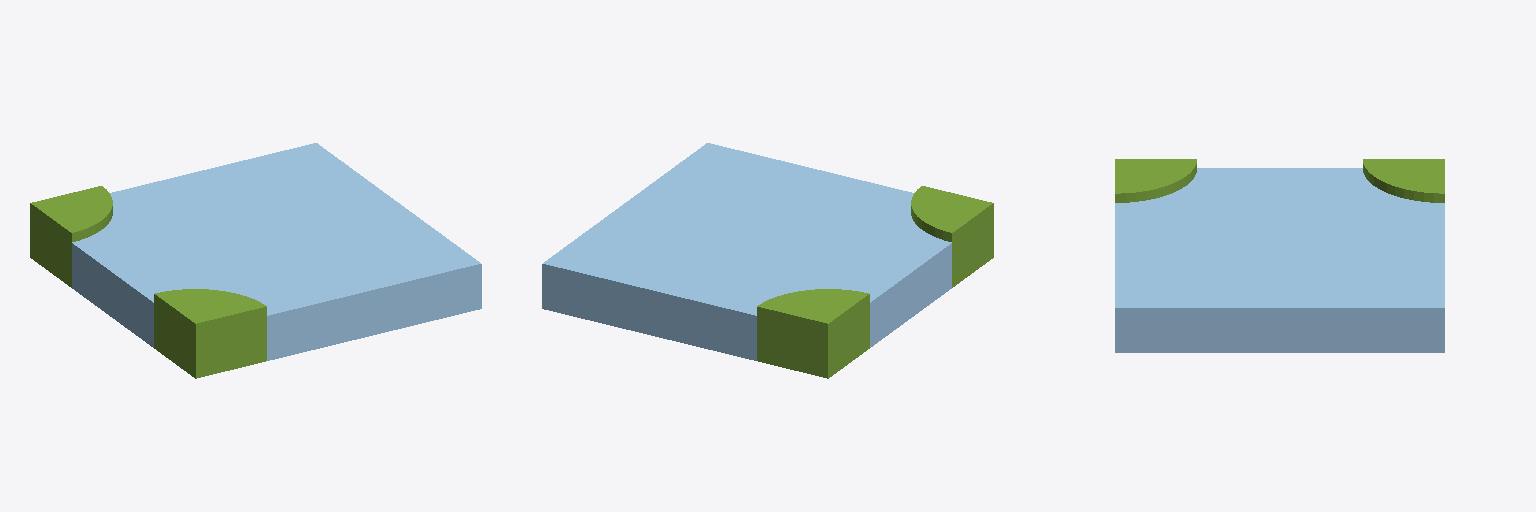
3 renders of one model, left to right at view 1: azimuth 30°, elevation 25°; view 2: azimuth 150°, elevation 25°; view 3: azimuth 270°, elevation 25°, orthographic.
Visible parts, largest first — view 1: roadTile_167.001; view 2: roadTile_167.001; view 3: roadTile_167.001.
Boxes of the visible parts, <box> form: roadTile_167.001: <box>30,143,481,378</box>; roadTile_167.001: <box>542,143,993,378</box>; roadTile_167.001: <box>1115,159,1444,352</box>.
Bounding box in the file's own units: 3 × 0.55 × 3.